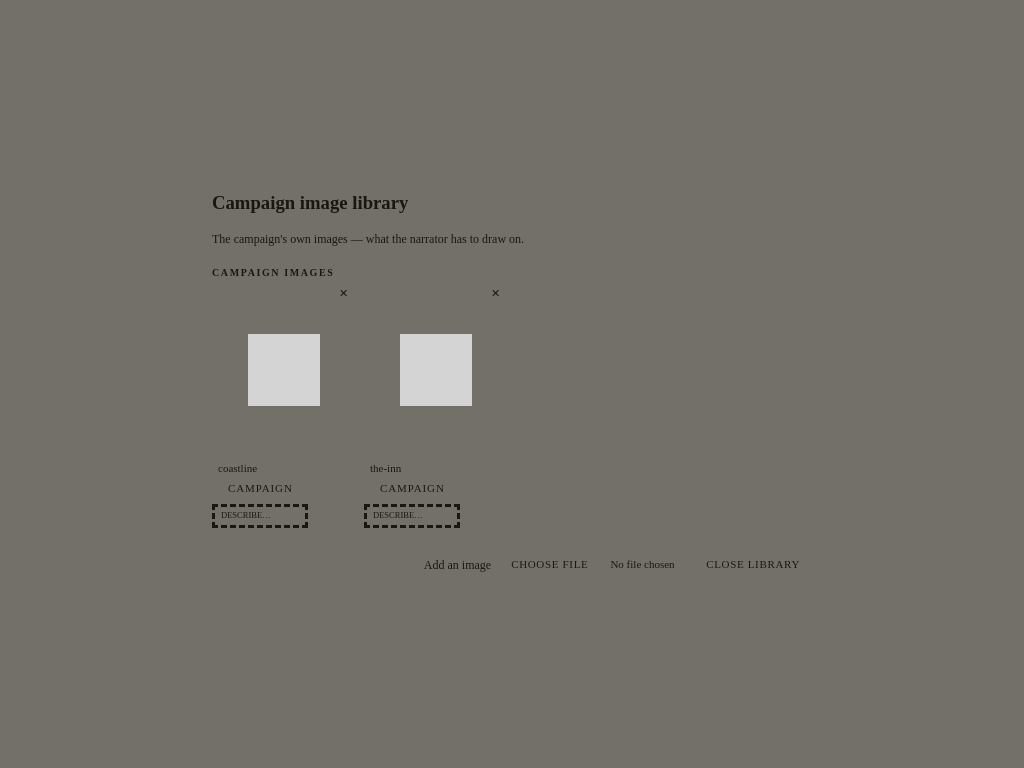
Test case: failed campaign-library refresh preserves known art and its viewer
The width and height of the screenshot is (1024, 768).
What coordinates should you click on to do the following:
click the button with aria-label "View coastline"
I would click on:
 (284, 394)
Its box is [212,284,356,504].
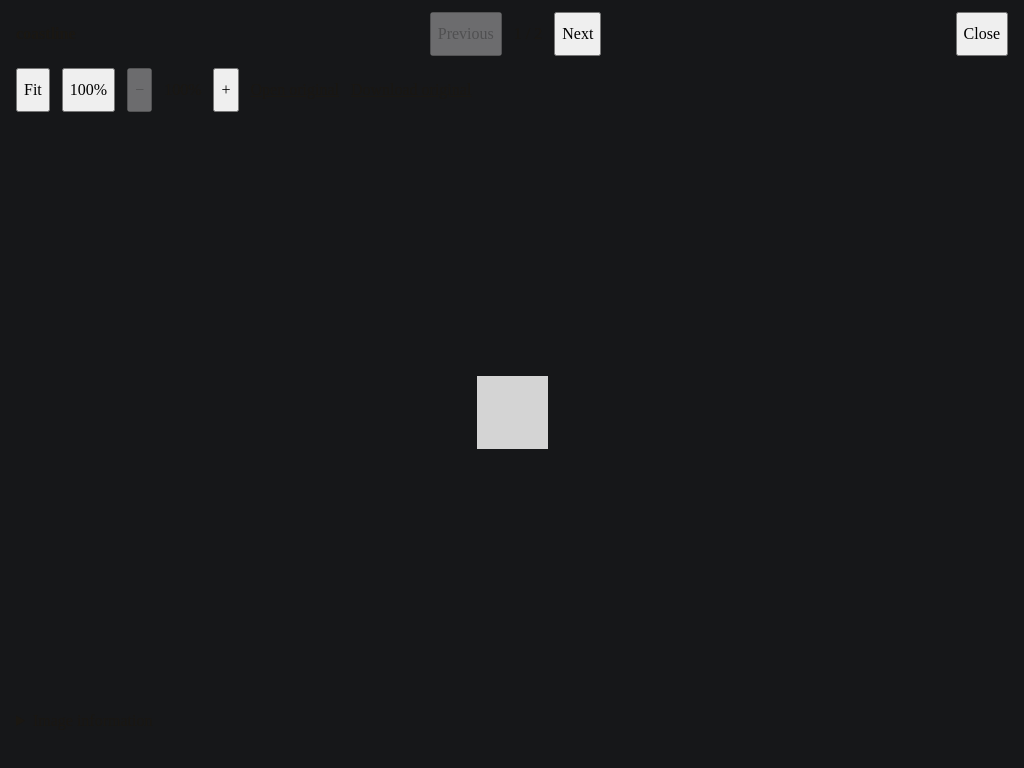
expect the dialog named "Image viewer" is shown: met
